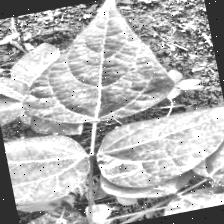ALS: (9, 0, 181, 133), (83, 96, 224, 191), (32, 194, 96, 224)
